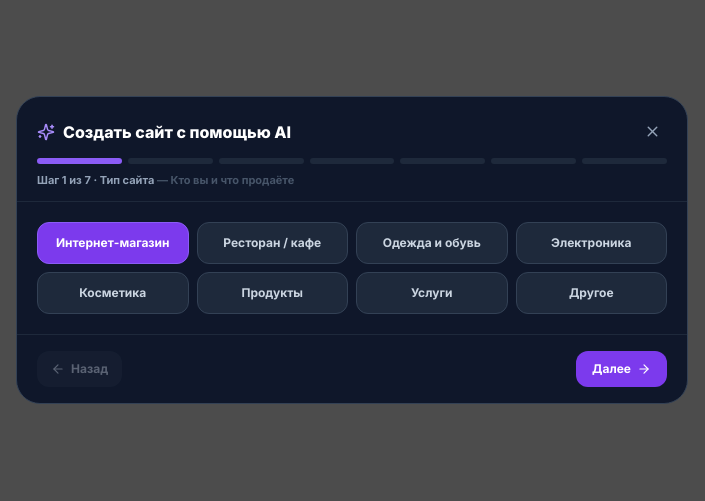
SiteWizard: шаги и валидация › навигация вперёд и назад, на первом шаге «Назад» отключён
The image size is (705, 501).
Expected: the button "Назад" is disabled, [37,351,122,387]
Click the button "Далее": (622, 369) [576,351,667,387]
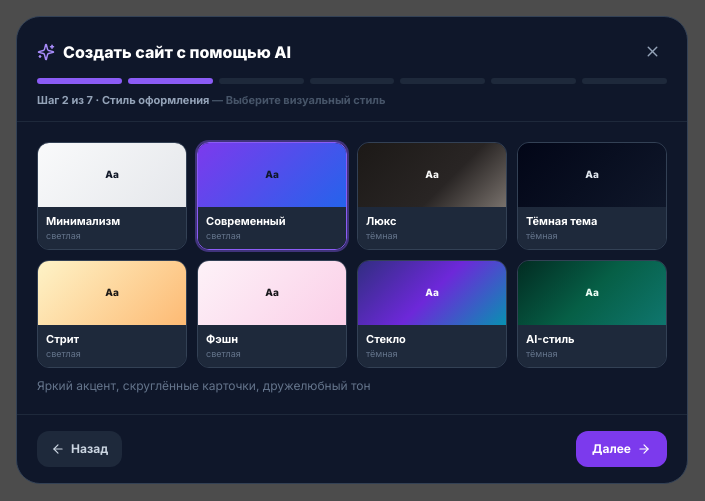
Result: the text "Шаг 2 из 7 · Стиль оформления — Выберите визуальный стиль" is shown at [37,93,385,107]
Click the button "Назад": (80, 449) [37,431,122,467]
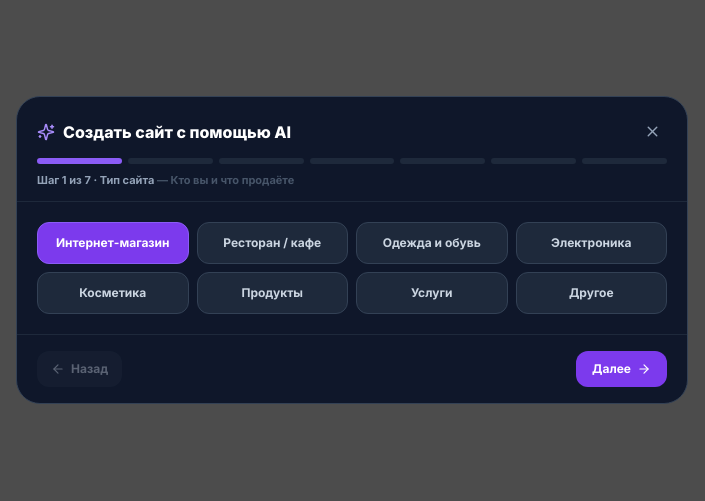
Result: the text "Шаг 1 из 7 · Тип сайта — Кто вы и что продаёте" is shown at [37,173,294,187]
Result: the button "Назад" is disabled at [37,351,122,387]
